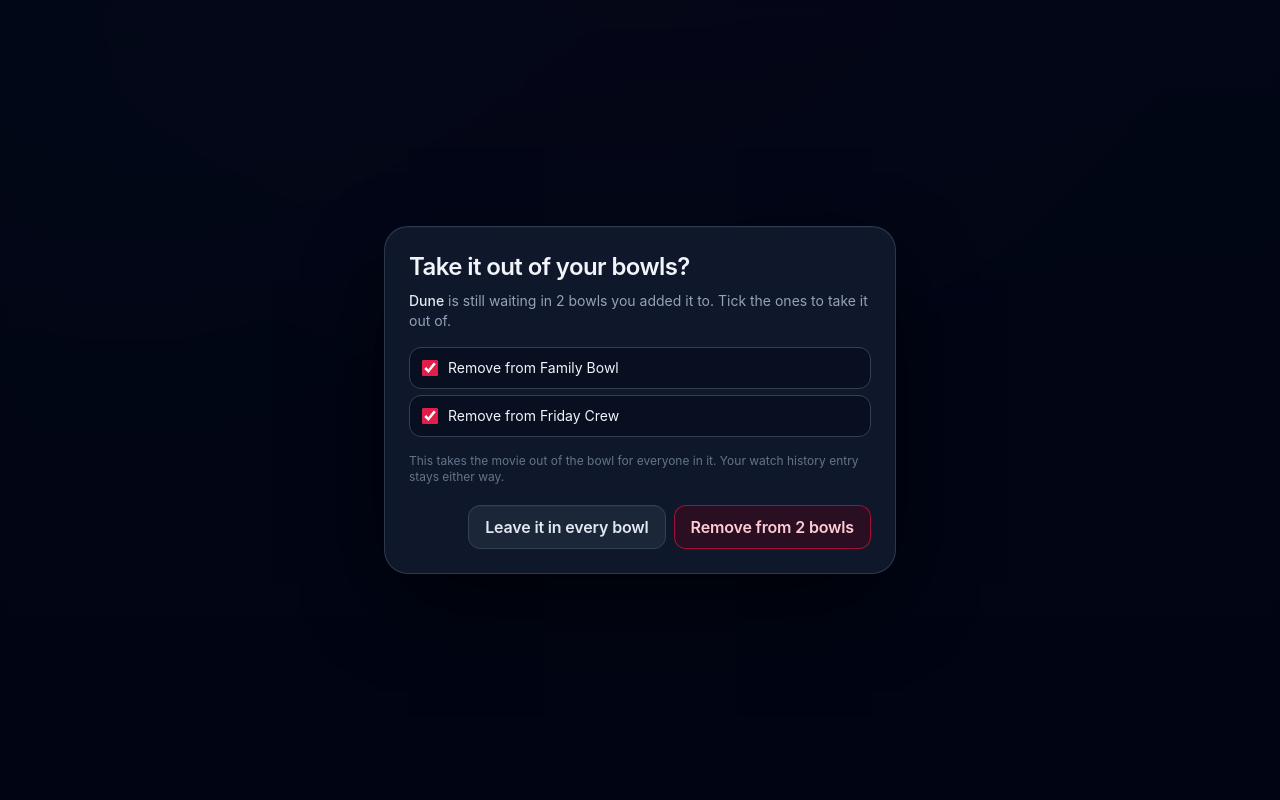
Test: RemoveFromBowlsModal › explains the empty selection instead of leaving a dead button
Click the checkbox labelled "Remove from Family Bowl" at [430, 368], box [422,360,438,376]
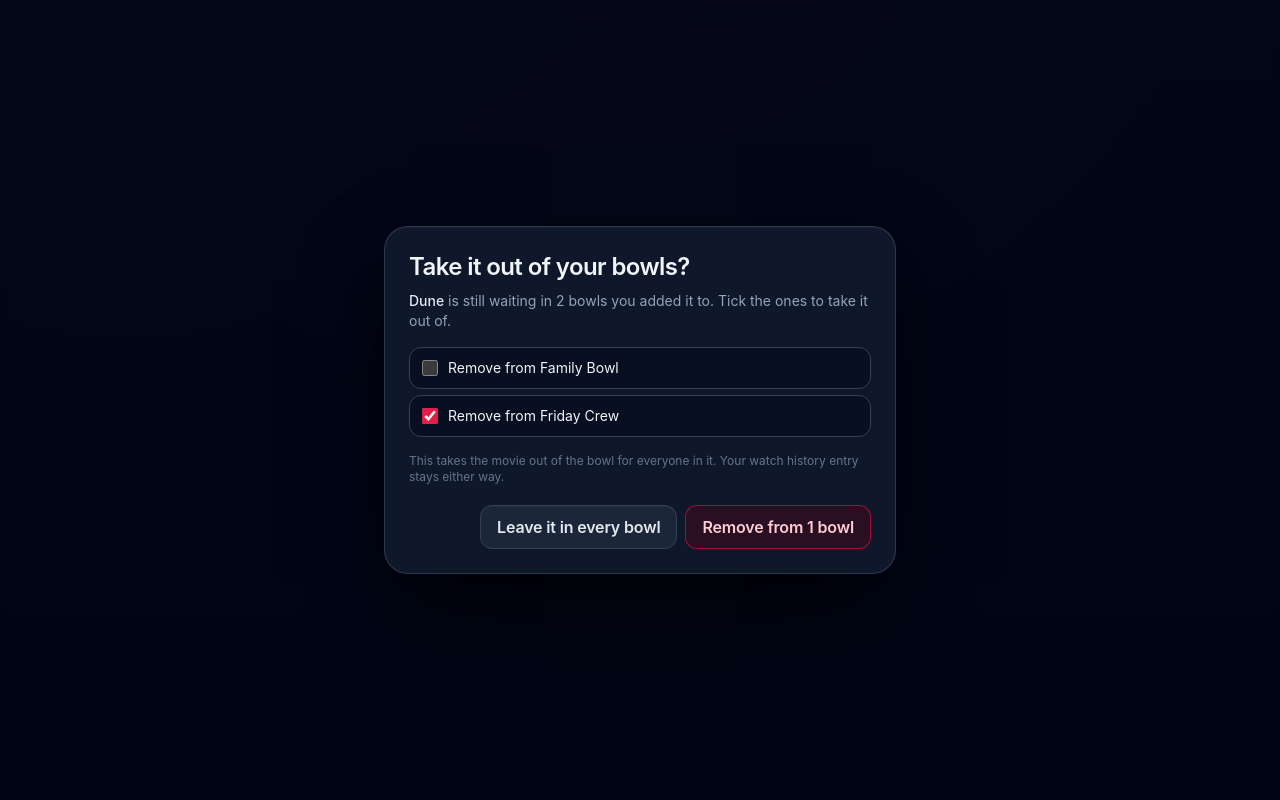
Click the checkbox labelled "Remove from Friday Crew" at [430, 416], box [422,408,438,424]
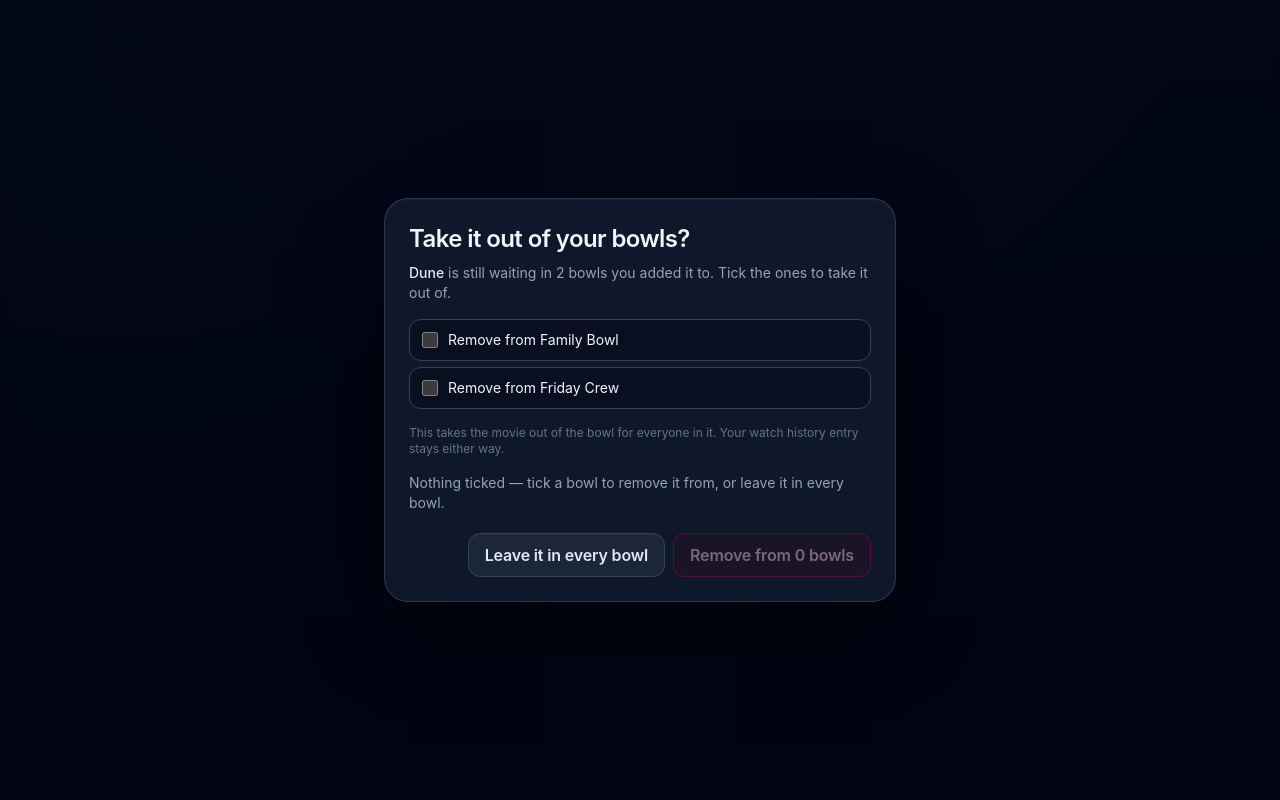
Expected: the button "Remove from 0 bowls" is disabled, [673,533,871,577]
Expected: the text "Nothing ticked — tick a bowl to remove it from, or leave it in every bowl." is shown, [409,473,871,513]
